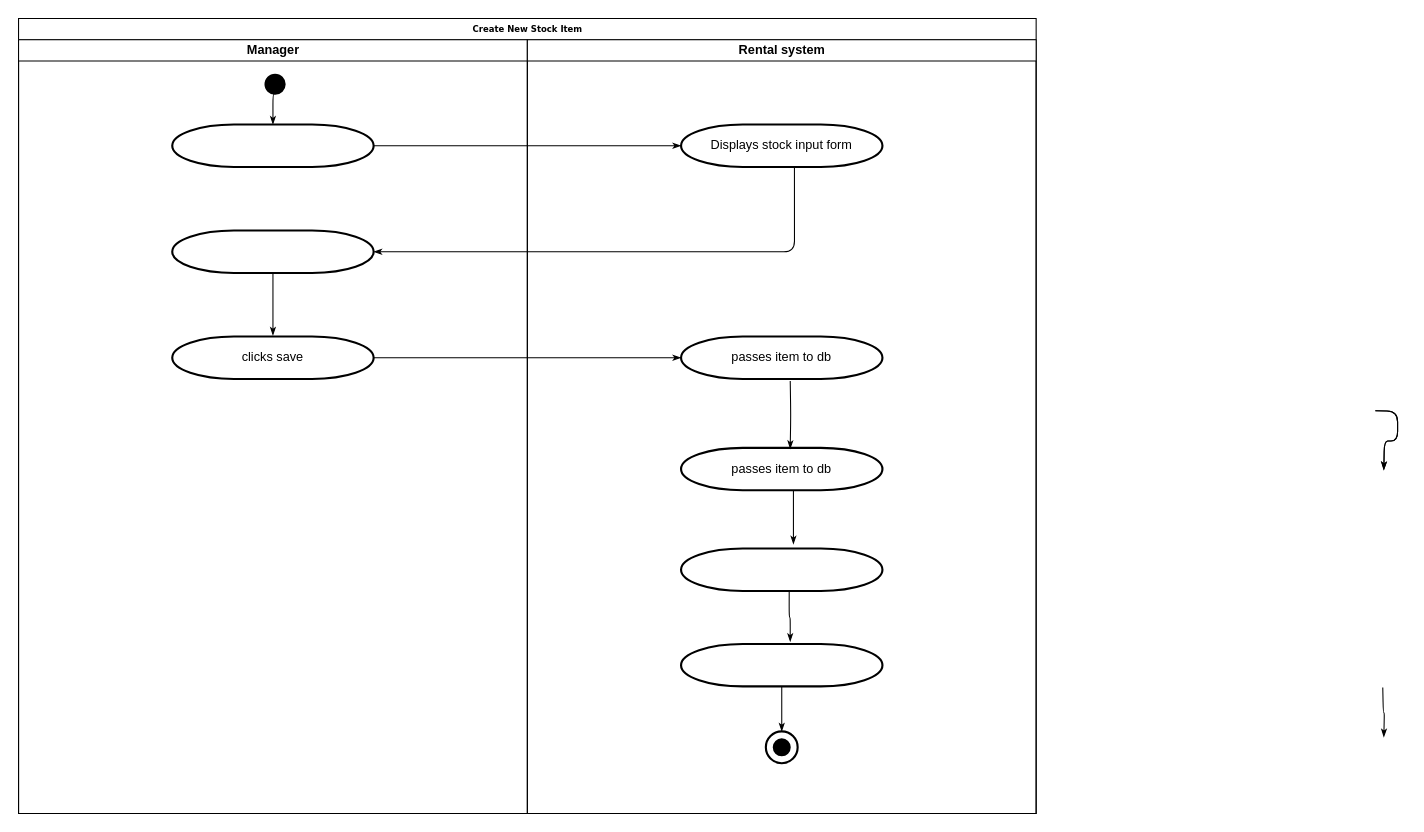
Some shapes in this 1424 by 832 pixel diagram are drawn without their labels. Here are the shapes that lost their labels. From the top down, the centre of each, then its label:
point 272,145: Clicks add stock from stock view
point 272,251: Inputs stock details
point 781,569: displays success view
point 781,664: redirects to stock view
